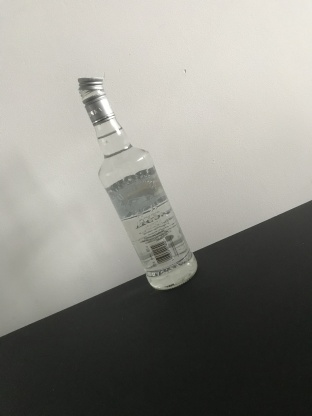nakretka: (76, 74, 116, 128)
